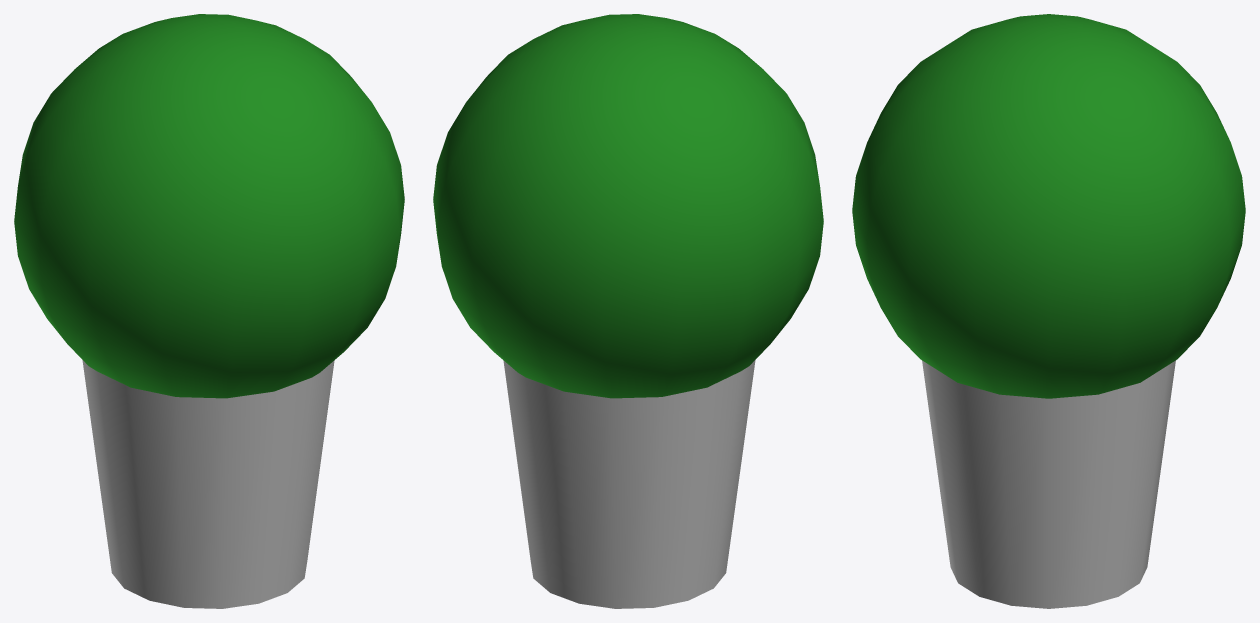
Rendered from plant_pot.glb.
3 views of the same model, side by side, from view 1: azimuth 30°, elevation 25°; view 2: azimuth 150°, elevation 25°; view 3: azimuth 270°, elevation 25° (orthographic).
Size of the model in its own units: 0.6 by 0.9 by 0.6.
